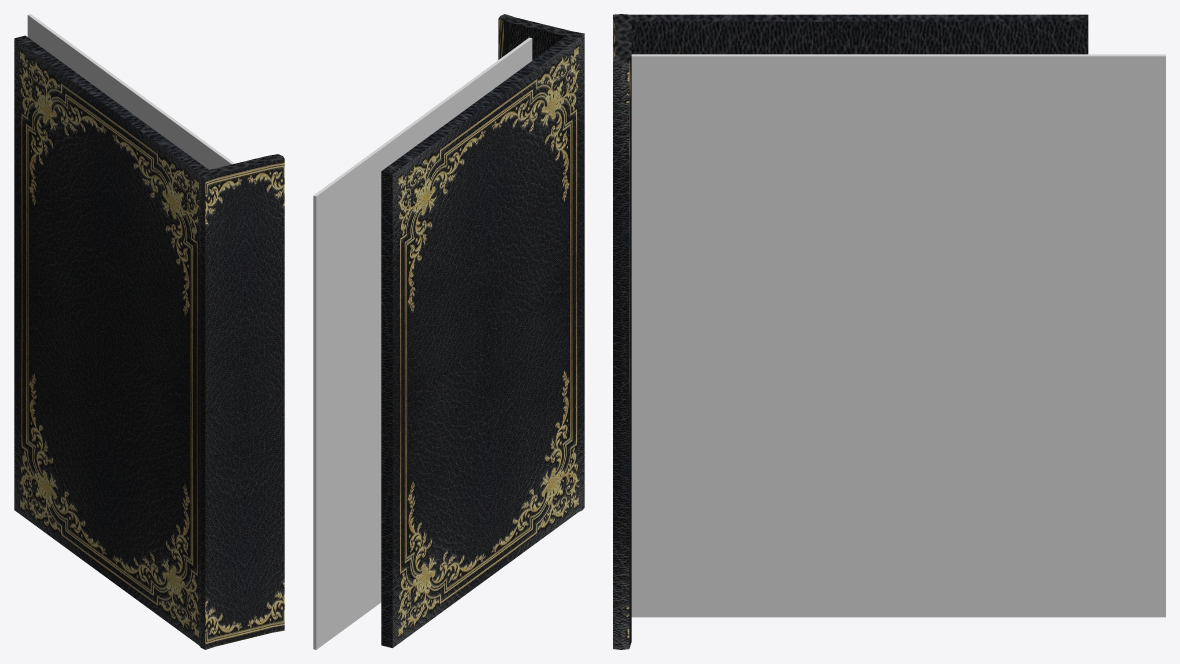
File: Book 1.fbx
3 renders of one model, left to right at view 1: azimuth 30°, elevation 25°; view 2: azimuth 150°, elevation 25°; view 3: azimuth 270°, elevation 25°, orthographic. The views are drawn at different scales.
Parts seen in each view (by area): view 1: Flying Book Cover 1, Flying Book Spine, Flying Book Pgs 1; view 2: Flying Book Cover 1, Flying Book Pgs 1, Flying Book Spine; view 3: Flying Book Pgs 1, Flying Book Cover 1, Flying Book Spine.
Part boxes in pixels (box(x1,y1,x2,y2)): Flying Book Cover 1: box(14, 35, 208, 644); Flying Book Spine: box(198, 154, 284, 649); Flying Book Pgs 1: box(27, 14, 234, 169); Flying Book Cover 1: box(381, 36, 578, 647); Flying Book Pgs 1: box(313, 37, 532, 649); Flying Book Spine: box(498, 14, 584, 511); Flying Book Pgs 1: box(631, 54, 1165, 617); Flying Book Cover 1: box(629, 14, 1088, 54); Flying Book Spine: box(613, 14, 631, 649).
Bounding box in the file's own units: 5.63 × 30.95 × 26.45.
1 material, 1 textured.
